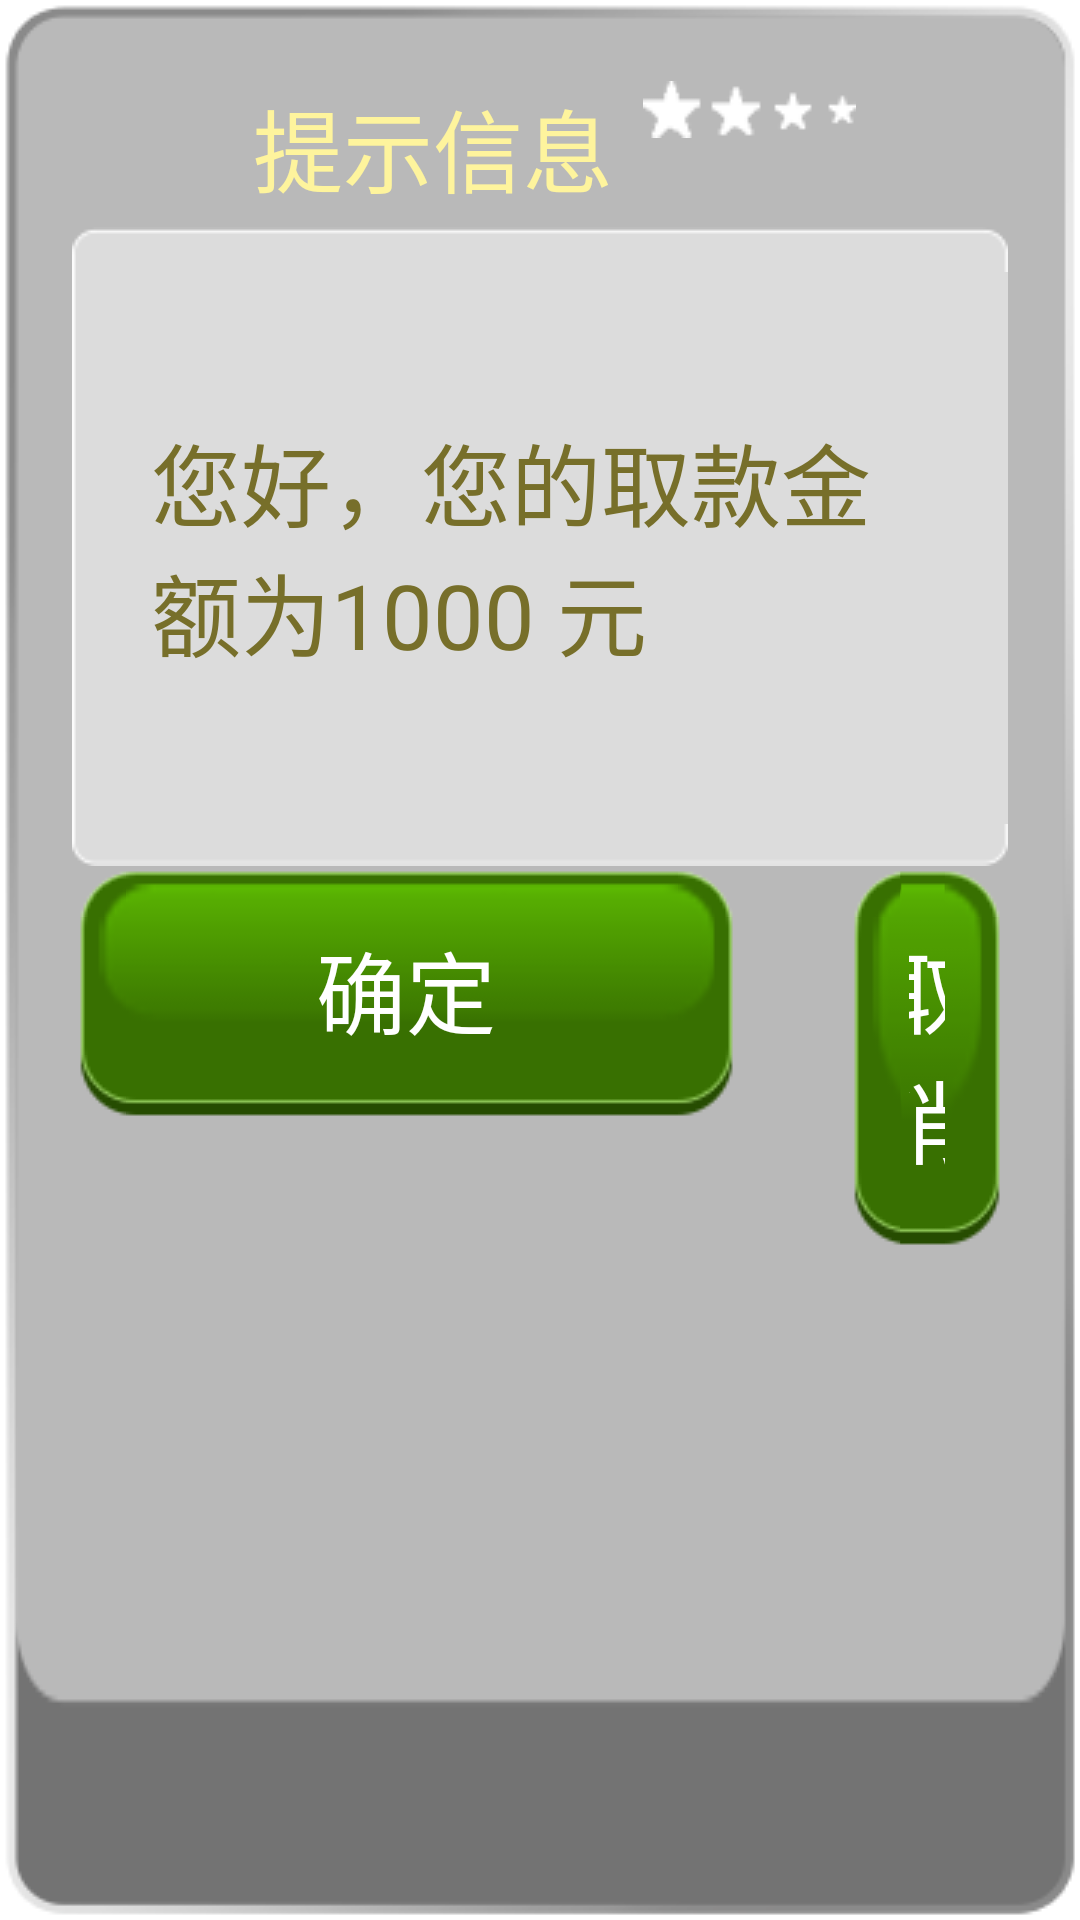

Icons on this 1080 x 1920 Android screen, each with its box as (x1, y1, x2, y2):
right star: (643, 81, 856, 138)
